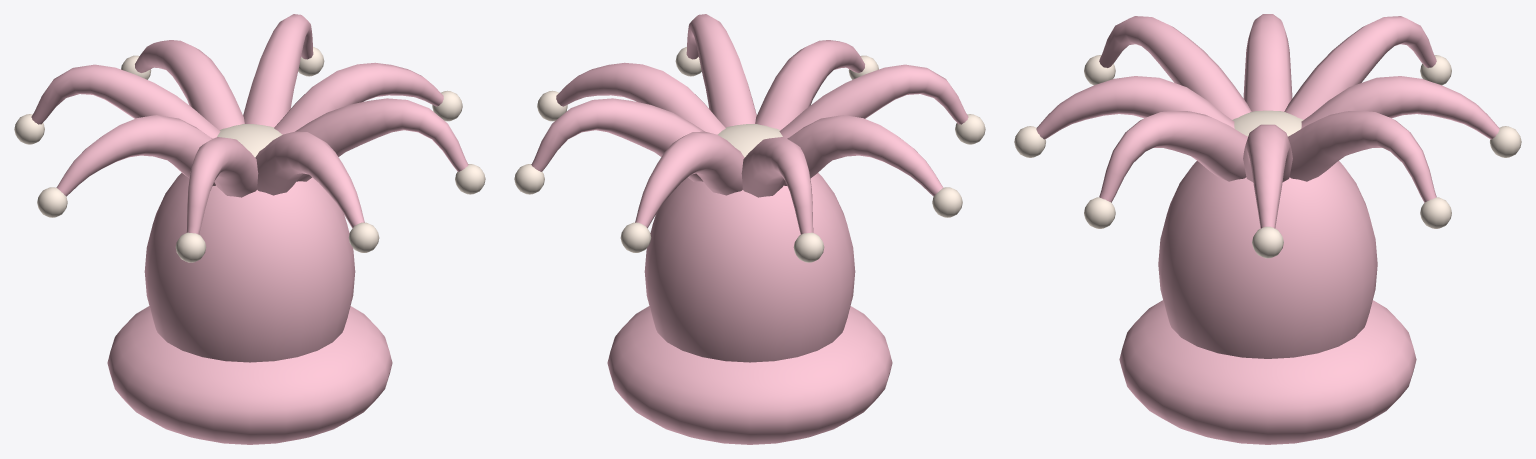
File: polyp.glb
3 renders of one model, left to right at view 1: azimuth 30°, elevation 25°; view 2: azimuth 150°, elevation 25°; view 3: azimuth 270°, elevation 25°, orthographic. The views are drawn at different scales.
Parts seen in each view (by area): view 1: polyp_polyp_body, polyp_polyp_tips; view 2: polyp_polyp_body, polyp_polyp_tips; view 3: polyp_polyp_body, polyp_polyp_tips.
Part boxes in pixels (box(x1,y1,x2,y2)): polyp_polyp_body: box(31, 14, 468, 444); polyp_polyp_tips: box(14, 47, 485, 262); polyp_polyp_body: box(531, 14, 968, 444); polyp_polyp_tips: box(514, 47, 985, 262); polyp_polyp_body: box(1036, 14, 1499, 444); polyp_polyp_tips: box(1014, 55, 1521, 258).
Bounding box in the file's own units: 2.22 × 1.68 × 2.22.
